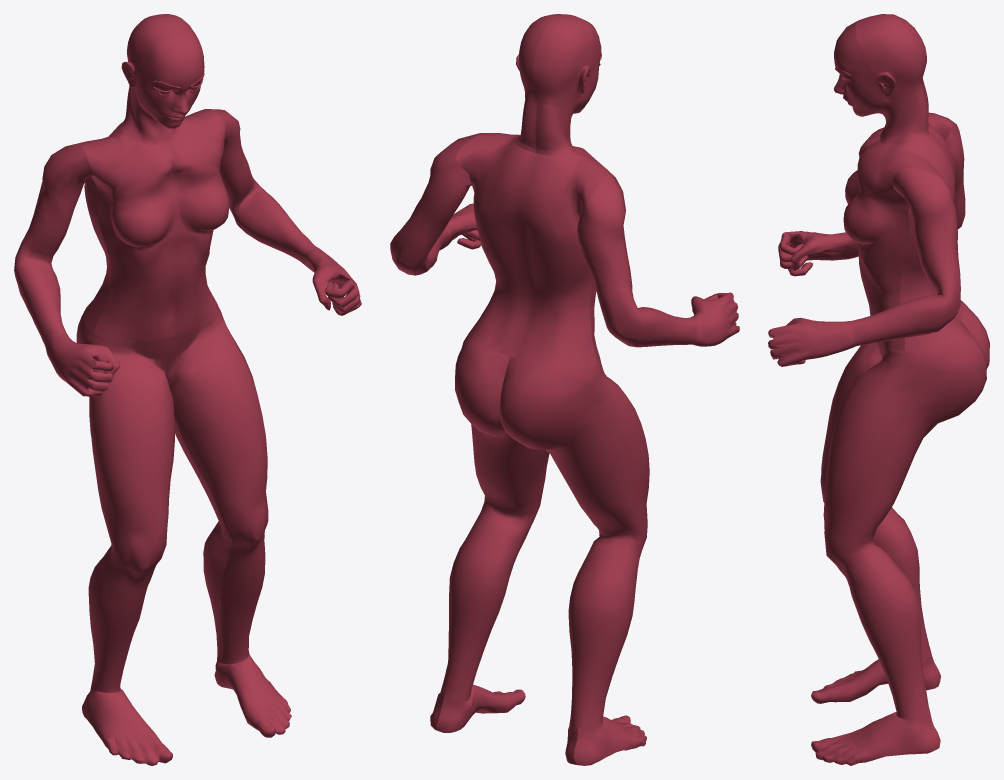
Rendered from danse-femme.glb.
The picture shows the model from 3 angles, left to right: view 1: azimuth 30°, elevation 25°; view 2: azimuth 150°, elevation 25°; view 3: azimuth 270°, elevation 25°; orthographic projection. The views are drawn at different scales.
Parts seen in each view (by area): view 1: Superhero_Female; view 2: Superhero_Female; view 3: Superhero_Female.
Part boxes in pixels (x1=…): Superhero_Female: x1=14, y1=14, x2=361, y2=765; Superhero_Female: x1=390, y1=14, x2=739, y2=765; Superhero_Female: x1=768, y1=14, x2=989, y2=765.
Size of the model in its own units: 0.6686 by 1.62 by 0.4653.
